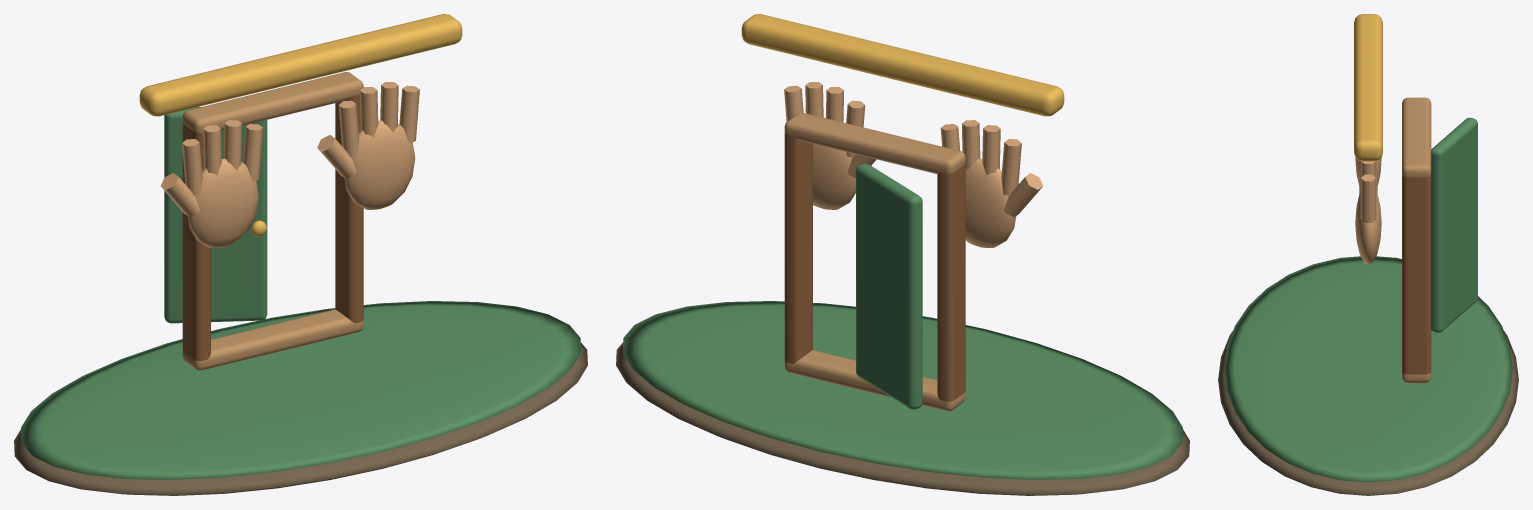
Rendered from opening-gate.glb.
3 views of the same model, side by side, from view 1: azimuth 30°, elevation 25°; view 2: azimuth 150°, elevation 25°; view 3: azimuth 270°, elevation 25° (orthographic). The views are drawn at different scales.
Visible parts, largest first — view 1: opening-gate_surface_01, opening-gate_surface_03, opening-gate_surface_02, opening-gate_surface_00, opening-gate_surface_05, opening-gate_surface_04; view 2: opening-gate_surface_01, opening-gate_surface_04, opening-gate_surface_03, opening-gate_surface_02, opening-gate_surface_00, opening-gate_surface_05; view 3: opening-gate_surface_01, opening-gate_surface_04, opening-gate_surface_00, opening-gate_surface_02, opening-gate_surface_05, opening-gate_surface_03.
Boxes of the visible parts, <box> form: opening-gate_surface_01: <box>21,107,580,479</box>; opening-gate_surface_03: <box>161,82,419,247</box>; opening-gate_surface_02: <box>139,14,462,236</box>; opening-gate_surface_00: <box>14,342,587,495</box>; opening-gate_surface_05: <box>182,72,363,370</box>; opening-gate_surface_04: <box>182,94,363,360</box>; opening-gate_surface_01: <box>623,163,1182,479</box>; opening-gate_surface_04: <box>784,133,965,401</box>; opening-gate_surface_03: <box>784,82,1042,247</box>; opening-gate_surface_02: <box>741,14,1064,116</box>; opening-gate_surface_00: <box>616,342,1189,495</box>; opening-gate_surface_05: <box>784,112,965,411</box>; opening-gate_surface_01: <box>1224,117,1512,482</box>; opening-gate_surface_04: <box>1402,175,1431,374</box>; opening-gate_surface_00: <box>1218,331,1518,495</box>; opening-gate_surface_02: <box>1354,14,1382,161</box>; opening-gate_surface_05: <box>1402,97,1431,383</box>; opening-gate_surface_03: <box>1355,157,1381,264</box>.
Size of the model in its own units: 4.56 by 2.91 by 2.5.
